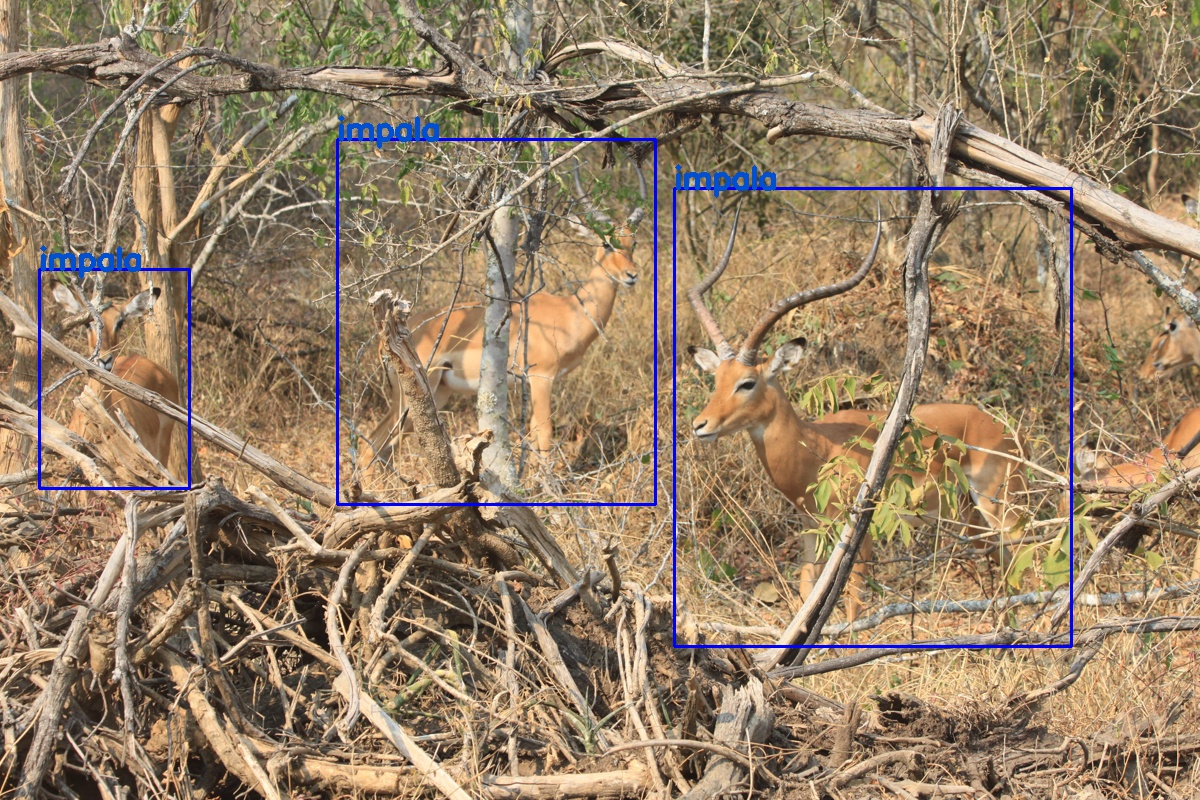impala: (673, 188, 1070, 646), (336, 139, 654, 504), (39, 269, 189, 488)
